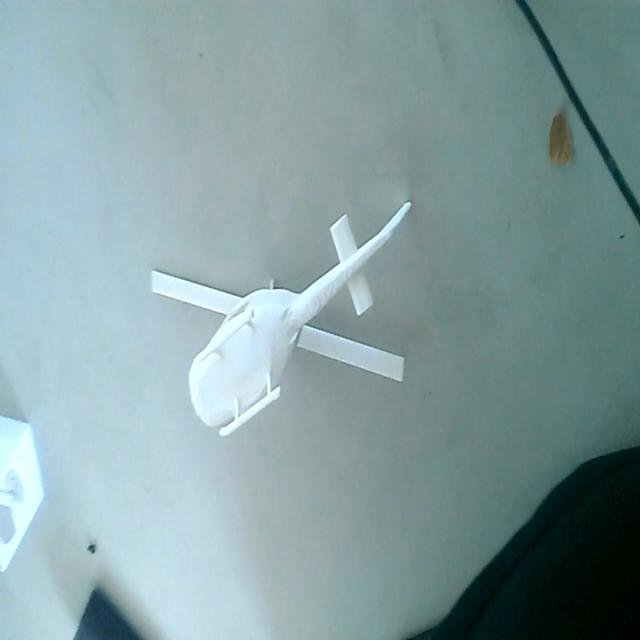Helicopter: (153, 199, 414, 450)
